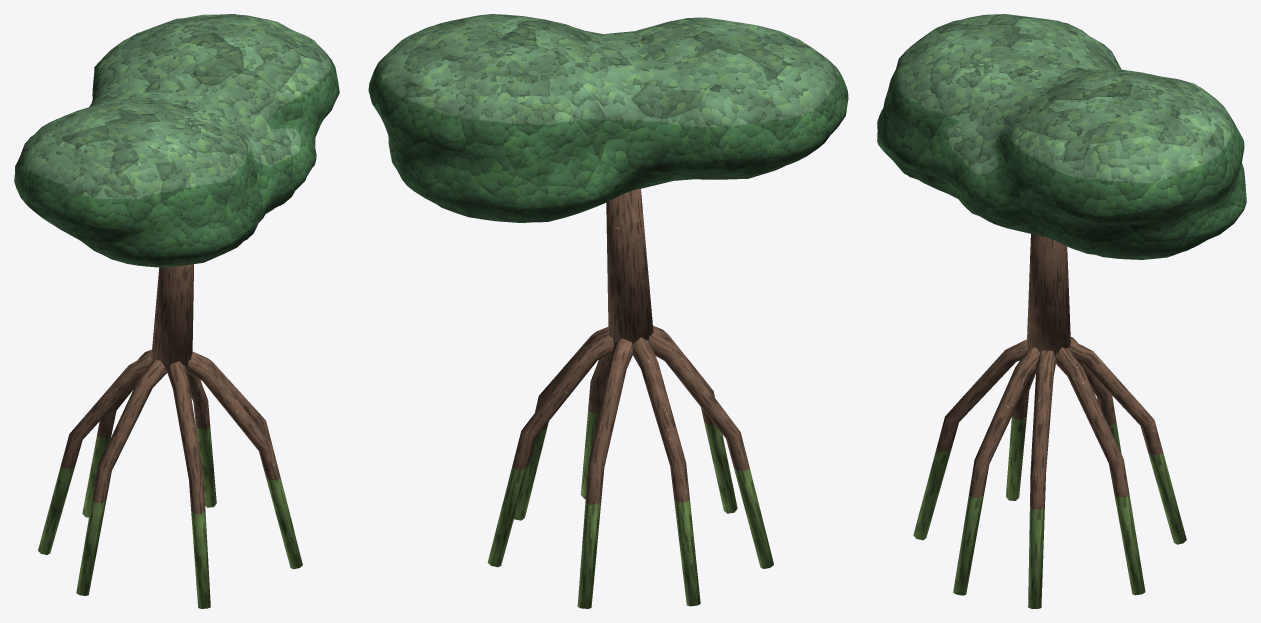
File: mangrove_a.glb
3 renders of one model, left to right at view 1: azimuth 30°, elevation 25°; view 2: azimuth 150°, elevation 25°; view 3: azimuth 270°, elevation 25°, orthographic. The views are drawn at different scales.
Visible parts, largest first — view 1: crown_leaf, Trunk; view 2: crown_leaf, Trunk; view 3: crown_leaf, Trunk.
Boxes of the visible parts, x1,y1,x2,y2 form: crown_leaf: (14, 14, 339, 267); Trunk: (38, 264, 302, 608); crown_leaf: (368, 14, 848, 222); Trunk: (487, 188, 773, 608); crown_leaf: (877, 14, 1246, 259); Trunk: (913, 234, 1186, 608).
Size of the model in its own units: 3.8 by 4.94 by 3.32.
1 material, 1 textured.
